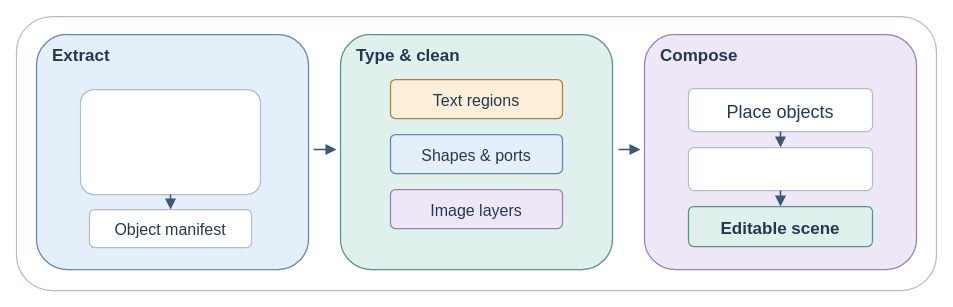
Some shapes in this 953 by 307 pixel diagram are drawn without their labels. The box of each missing label's shape, as (x1, y1, x2, y2) in pixels:
Attach connectors: (687, 146, 873, 191)
Input snapshot: (79, 88, 261, 195)
